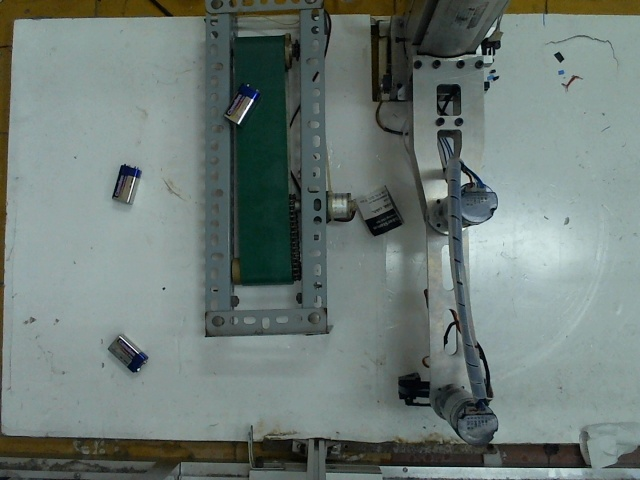battery: (106, 331, 148, 370), (224, 83, 262, 125), (110, 163, 141, 203)
